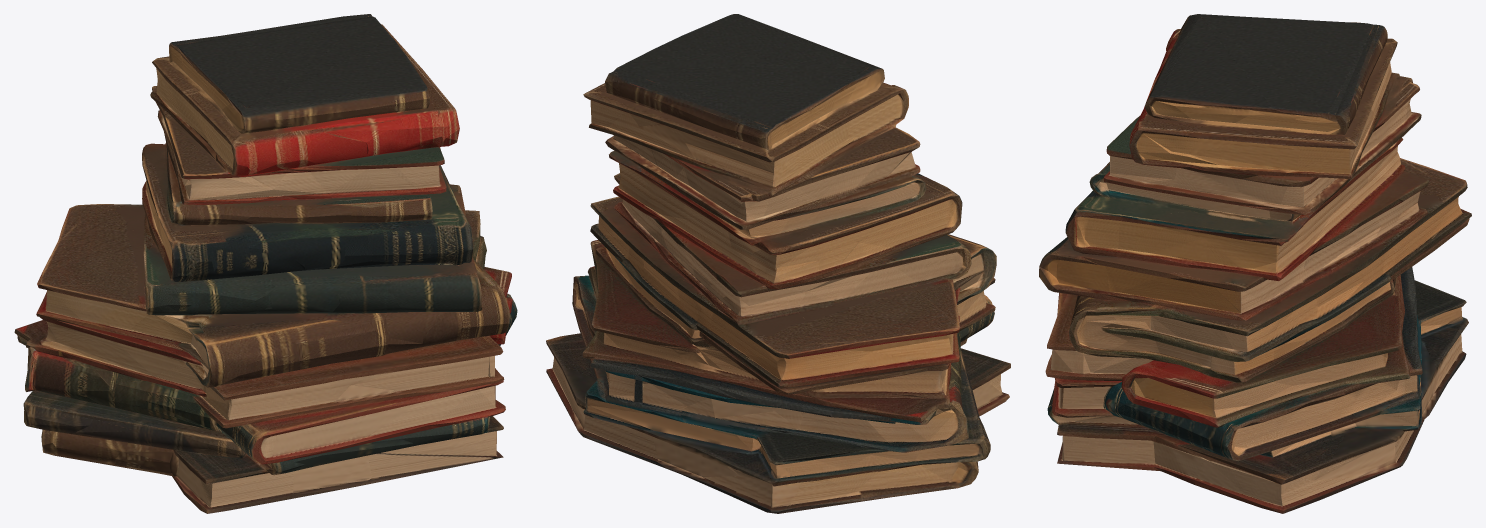
The model's file is Book Pile.fbx.
The picture shows the model from 3 angles, left to right: view 1: azimuth 30°, elevation 25°; view 2: azimuth 150°, elevation 25°; view 3: azimuth 270°, elevation 25°; orthographic projection. The views are drawn at different scales.
Parts seen in each view (by area): view 1: Meshy_Remeshed; view 2: Meshy_Remeshed; view 3: Meshy_Remeshed.
Boxes of the visible parts, x1,y1,x2,y2 form: Meshy_Remeshed: [14, 14, 517, 513]; Meshy_Remeshed: [546, 14, 1010, 513]; Meshy_Remeshed: [1039, 14, 1471, 513].
Bounding box in the file's own units: 190 × 138 × 153.
Materials: 1 (1 with a texture image).
